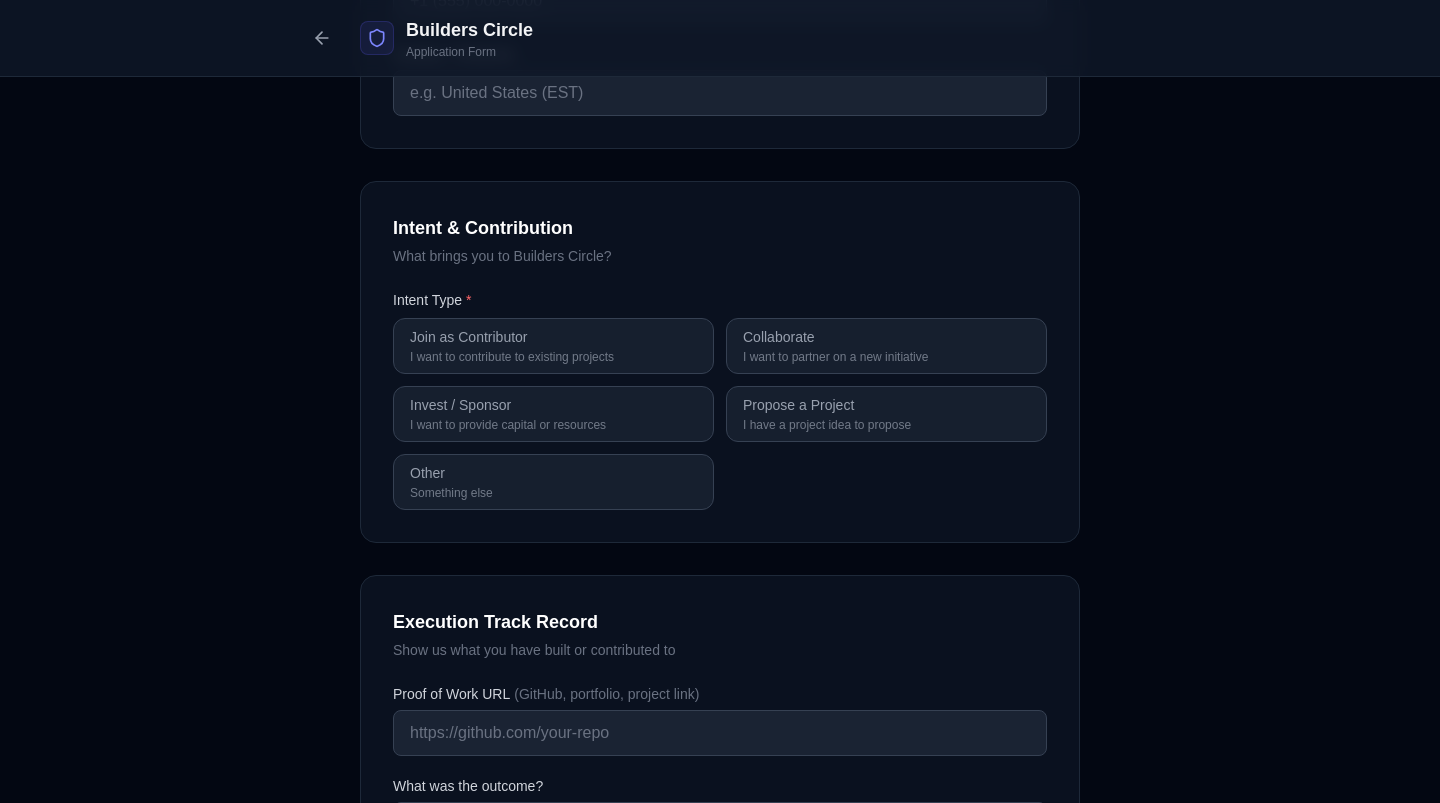
Test case: TriageApply Conditional Fields [Group 7] › shows capital range options when Invest intent is selected
(page scrolled)
expect the text "Pre-revenue / Idea stage" is not shown: met
// Select invest intent
Click the text "Invest / Sponsor": (461, 405) [410,397,511,413]
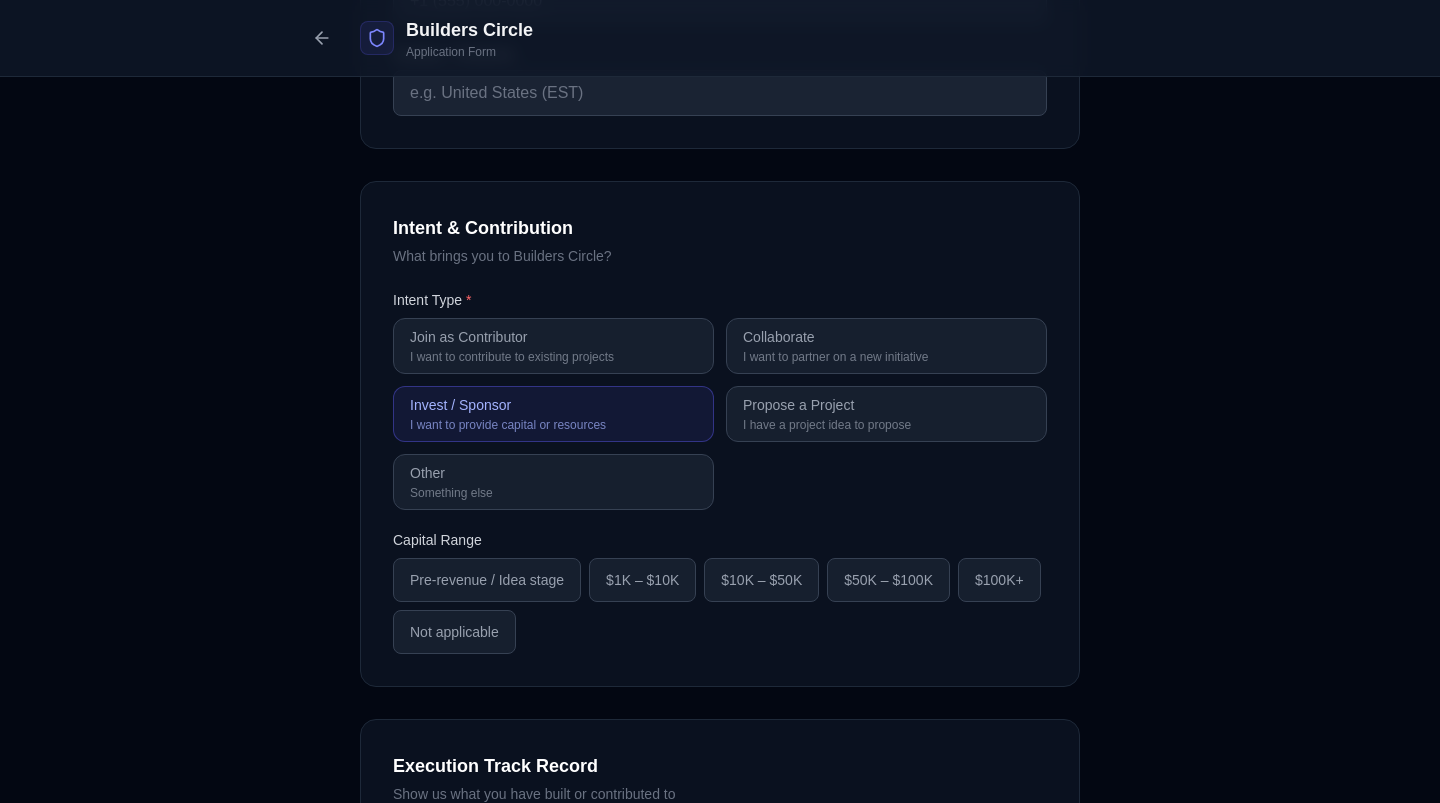
expect the button "Pre-revenue / Idea stage" is shown: met, box [393,558,581,602]
expect the button "$1K – $10K" is shown: met, box [589,558,696,602]
expect the button "$100K+" is shown: met, box [958,558,1041,602]
